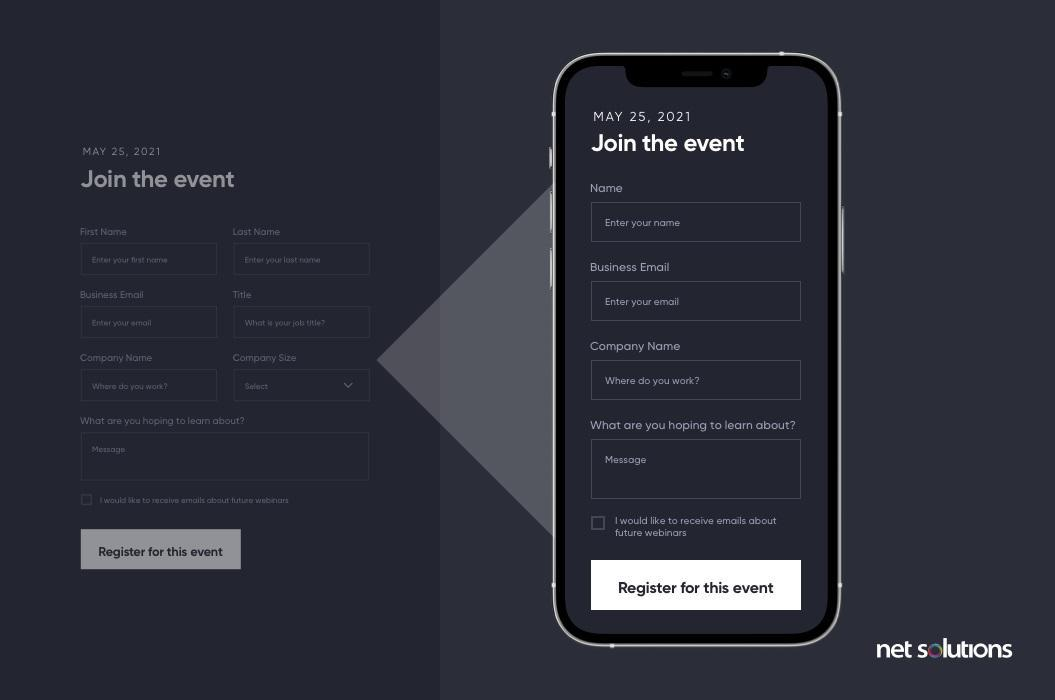button: (591, 560, 803, 613), (81, 529, 243, 570)
checkbox: (591, 516, 607, 533), (81, 494, 95, 507)
dropdown: (233, 369, 372, 404)
input: (590, 360, 803, 404), (591, 280, 804, 324), (591, 201, 803, 245), (233, 242, 373, 279), (80, 242, 220, 278), (80, 369, 220, 404), (233, 306, 373, 341), (80, 306, 220, 341)
label: (612, 515, 781, 542), (591, 133, 746, 157), (79, 168, 237, 191), (81, 414, 248, 429), (591, 420, 799, 432), (99, 497, 292, 507), (595, 111, 693, 126), (589, 342, 684, 355), (588, 262, 674, 275), (80, 354, 157, 366), (80, 147, 161, 157), (79, 291, 151, 302), (233, 354, 299, 365), (232, 227, 282, 238), (78, 228, 127, 238), (590, 184, 624, 196), (232, 290, 253, 302)
